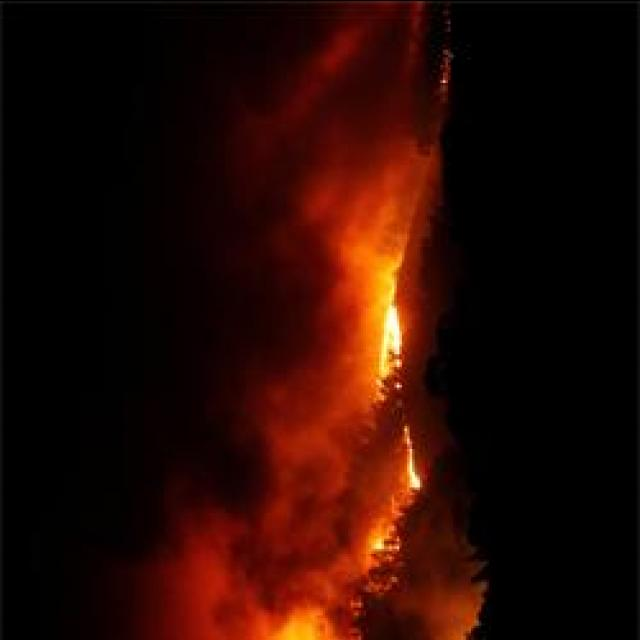fire: (375, 270, 404, 382), (399, 425, 424, 499)
smoke: (113, 491, 349, 640)
